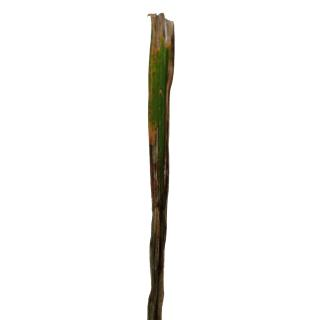Hawar-Daun: (147, 107, 163, 320), (149, 16, 176, 60)
